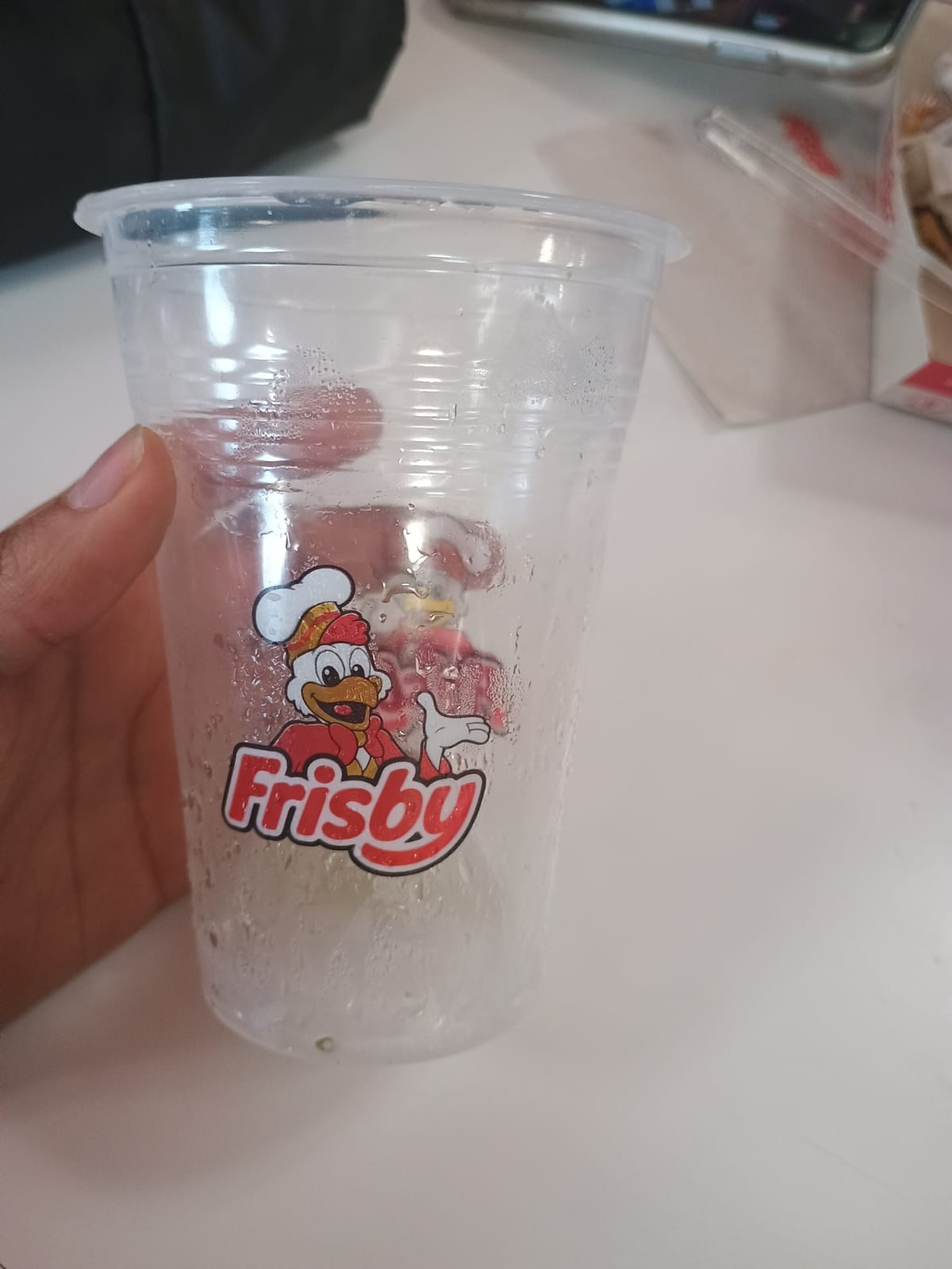Plastico: (76, 173, 694, 1064)
